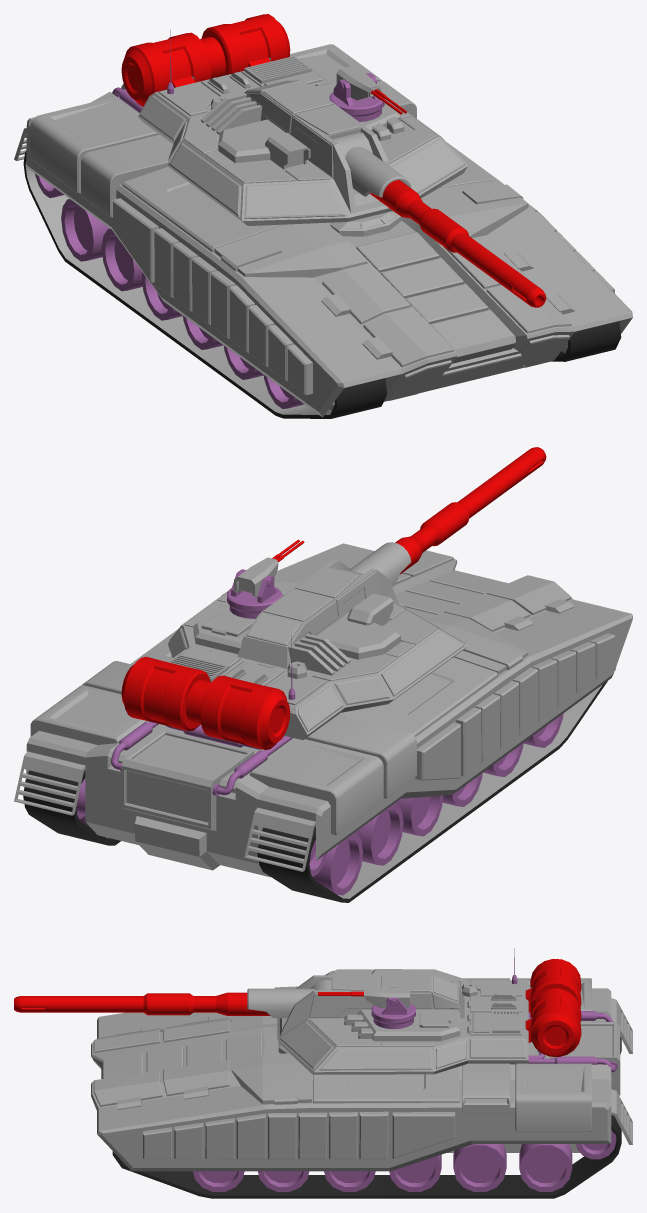
File: BattleTank.fbx
3 renders of one model, top to bottom at view 1: azimuth 30°, elevation 25°; view 2: azimuth 150°, elevation 25°; view 3: azimuth 270°, elevation 25°, orthographic. The views are drawn at different scales.
Visible parts, largest first — view 1: Tank:Tank; view 2: Tank:Tank; view 3: Tank:Tank.
Part boxes in pixels (box(x1,y1,x2,y2)): Tank:Tank: box(14, 14, 632, 418); Tank:Tank: box(14, 447, 632, 902); Tank:Tank: box(14, 948, 632, 1198).
Bounding box in the file's own units: 89.63 × 63.55 × 191.
